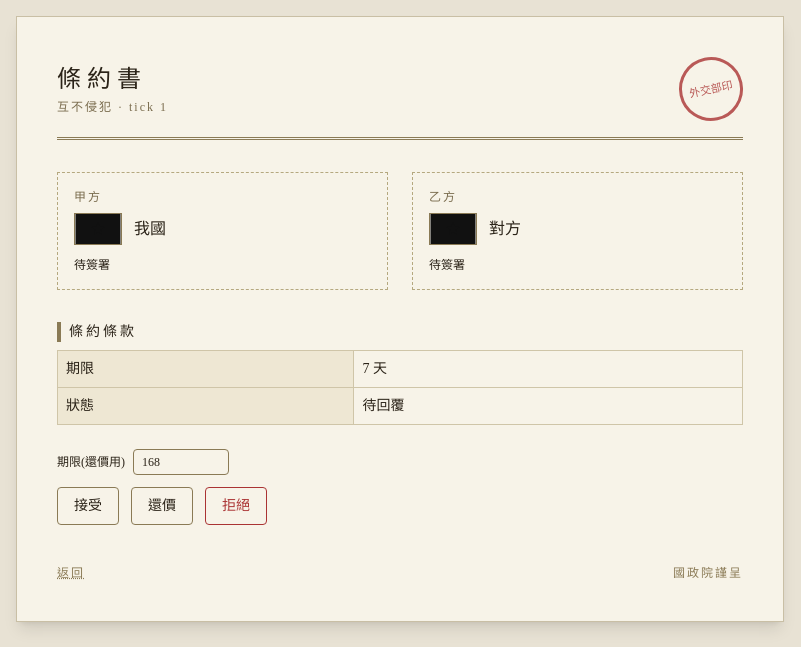
Test: TreatyPage — localStatus 重設(finding #7:伺服器狀態優先於本地樂觀值) › resets localStatus when navigating to a different treaty id
Click the button "接受" at x=88, y=506, box [57,487,119,525]
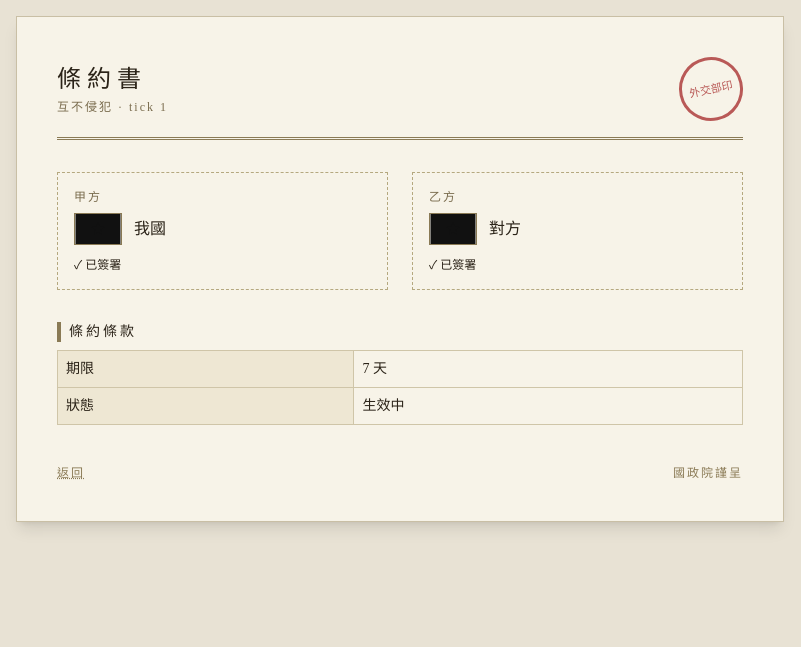
Check: the text "生效中" is shown, box [354,388,742,424]
